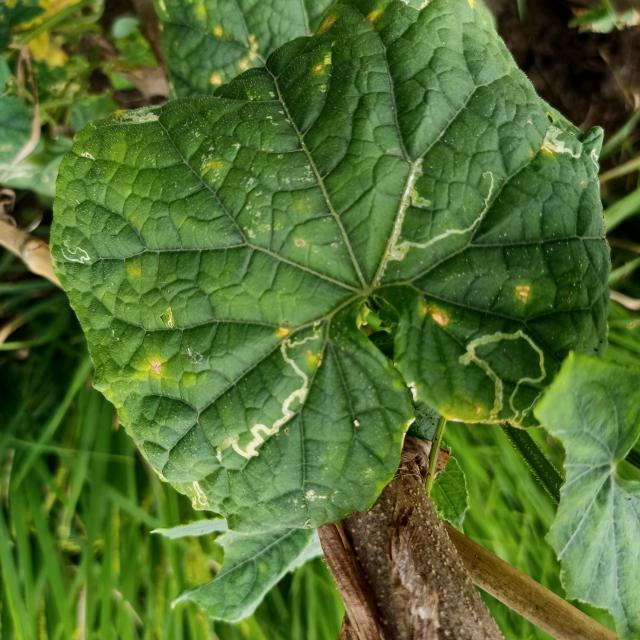disease_cucumber: (423, 299, 453, 327), (314, 52, 335, 74), (145, 357, 163, 377), (517, 281, 533, 302), (304, 348, 320, 367), (274, 326, 293, 339)
